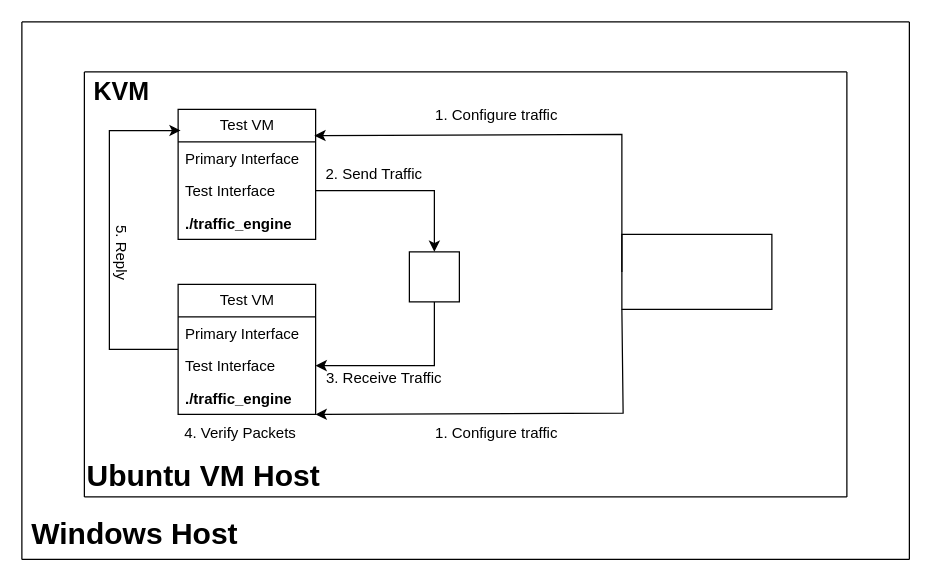
Some shapes in this 933 by 583 pixel diagram are drawn without their labels. The shapes that lost their labels are listed below. From the top down, each one's box as (x1, y1, x2, y2) in pixels, then its label:
(408, 251, 459, 302): DUT
(621, 233, 772, 309): Go CLI Orchestrator
